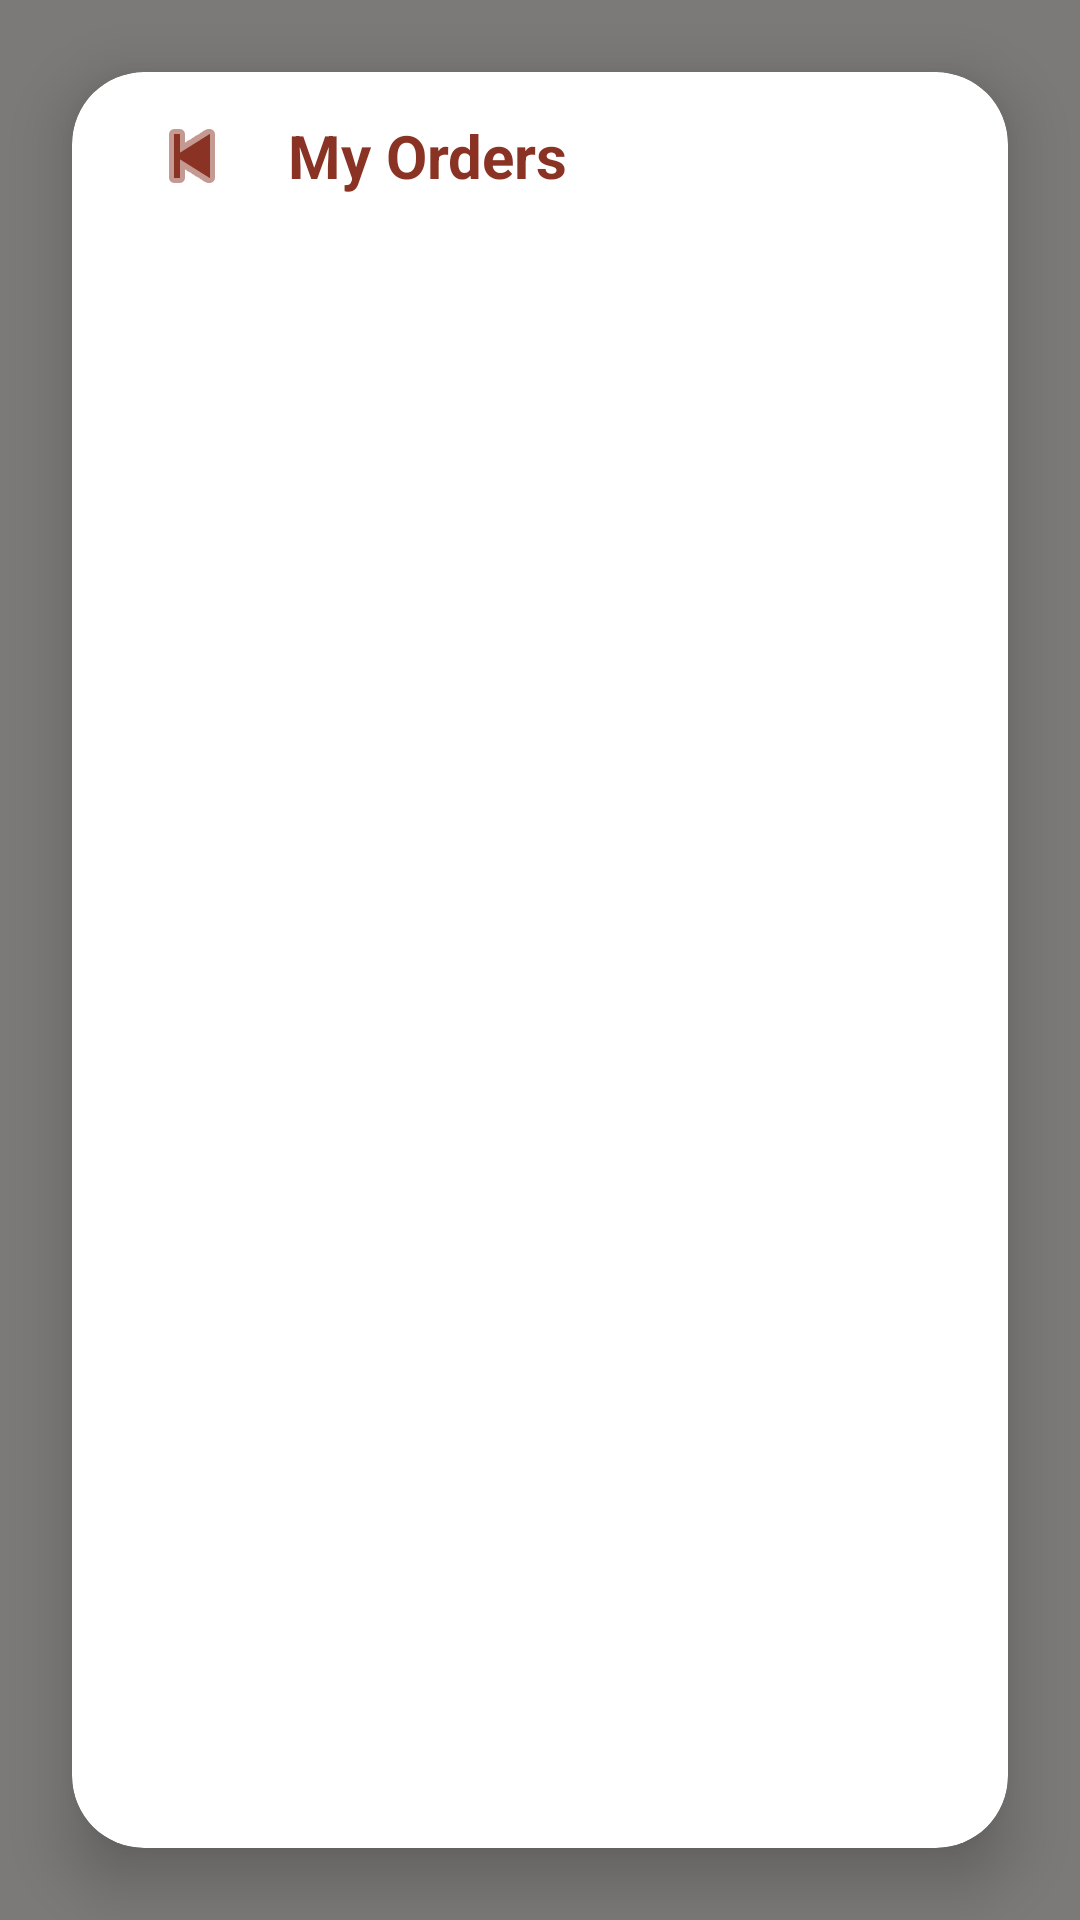

Locate icon controls on the screen. Image size 1080*1920, boxes as (x1, y1, x2, y2).
Back: (169, 129, 215, 183)
